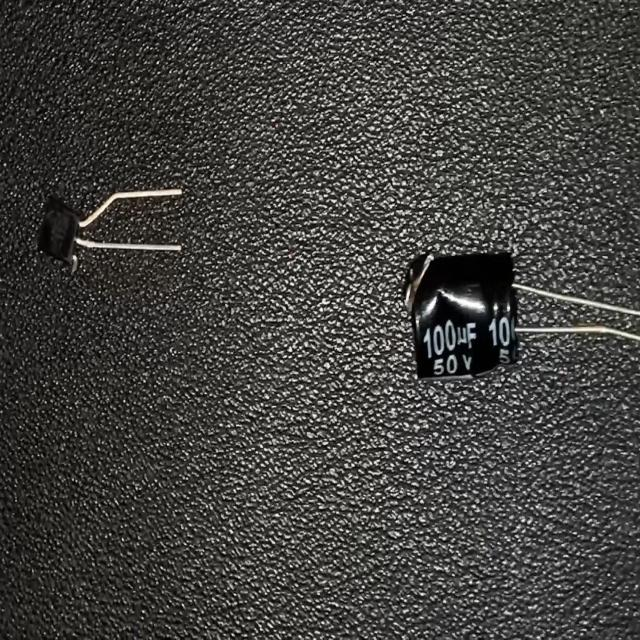capacitor: (400, 245, 640, 382)
cracked: (410, 283, 486, 338), (404, 248, 434, 320)
missing-leg: (37, 182, 184, 280)
